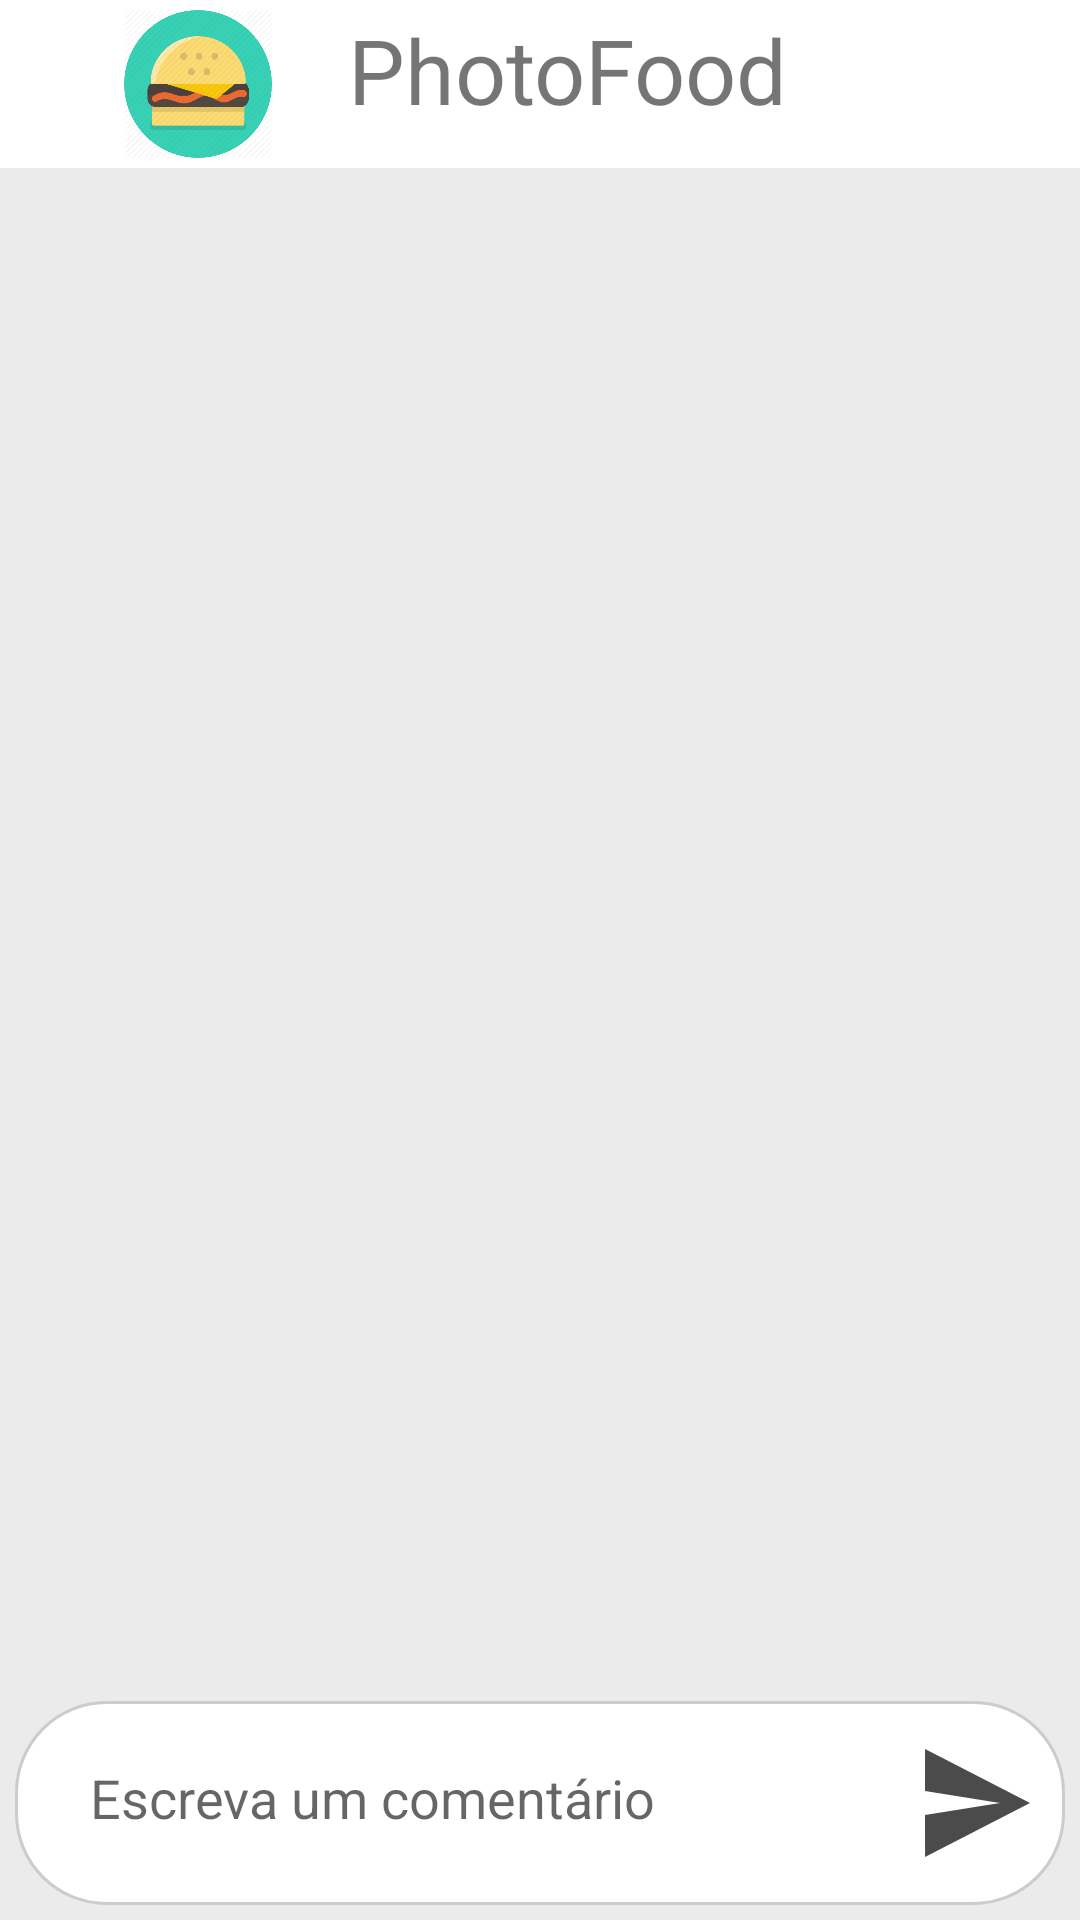

Icons on this 1080 × 1920 Android screen, each with the point to tap as [x,y]:
enviar preto: [977,1803]
